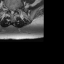CCS_normal: (11, 7, 13, 16)
LFS_severe_stenosis: (14, 6, 17, 11)
LLS_normal: (13, 7, 14, 14)
RFS_stenosis: (8, 6, 10, 12)
RLS_normal: (10, 7, 11, 14)
